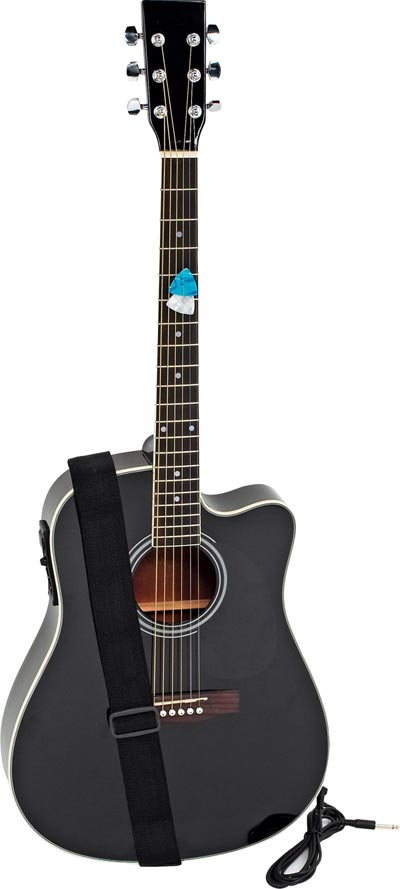guitar: (8, 1, 334, 867)
